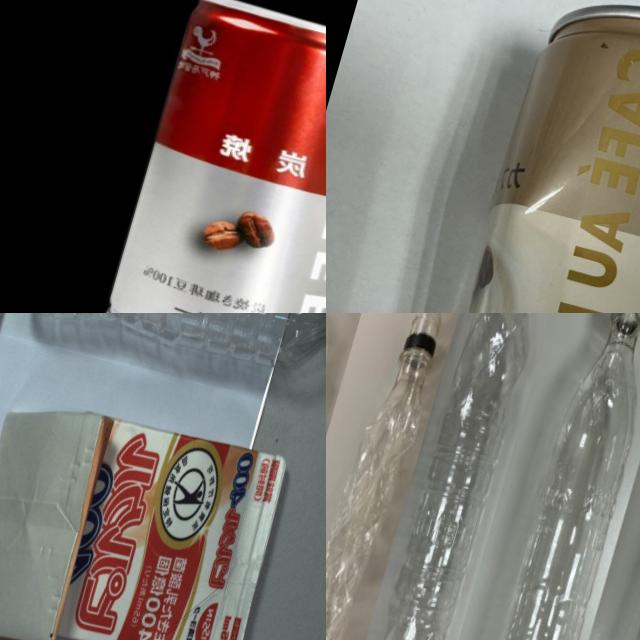Aluminium Foil: (0, 371, 302, 640), (0, 313, 69, 640)
Can: (87, 0, 326, 313), (418, 0, 640, 313)
Transparent Plastic Bottle: (349, 313, 567, 640), (459, 313, 640, 640), (326, 313, 453, 640), (17, 313, 326, 416), (562, 313, 640, 640)
